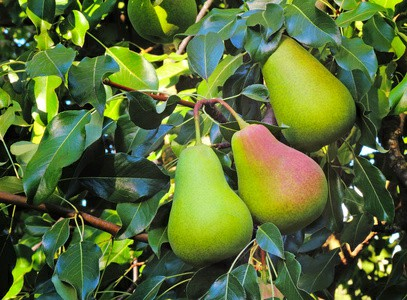pear: (252, 30, 356, 149), (232, 122, 328, 229), (168, 145, 254, 259)
